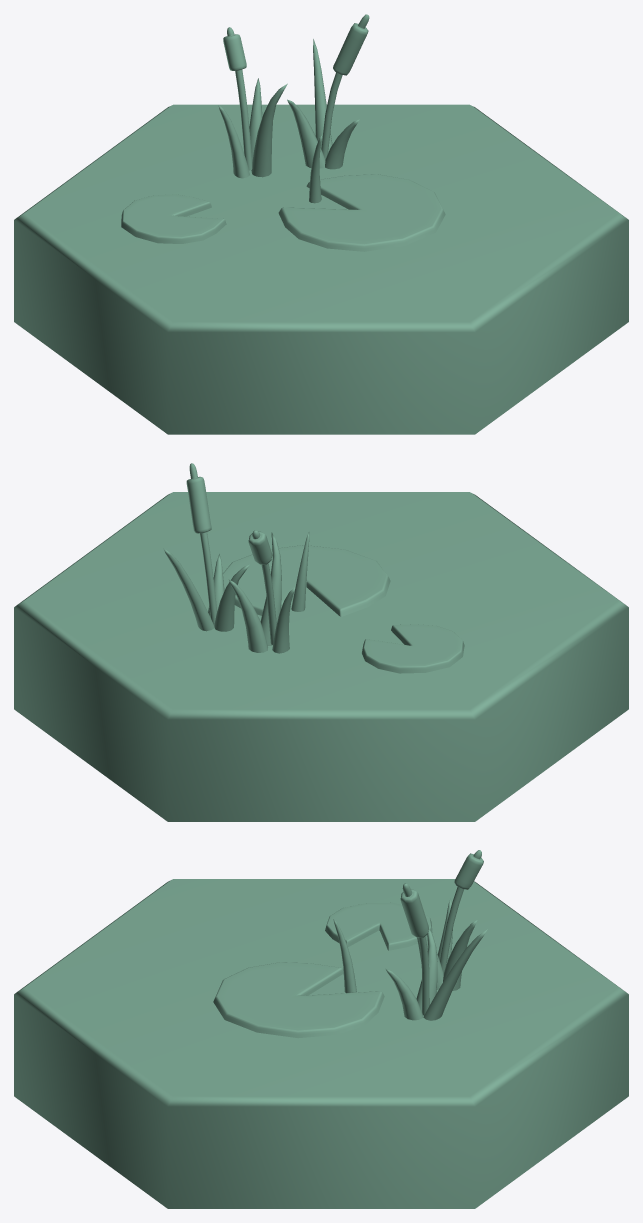
Rendered from 6_water_plants.fbx.
3 renders of one model, top to bottom at view 1: azimuth 30°, elevation 25°; view 2: azimuth 150°, elevation 25°; view 3: azimuth 270°, elevation 25°, orthographic.
Visible parts, largest first — view 1: pCylinder15; view 2: pCylinder15; view 3: pCylinder15.
Boxes of the visible parts, left/top/right/bottom form: pCylinder15: left=14, top=14, right=628, bottom=434; pCylinder15: left=14, top=463, right=628, bottom=821; pCylinder15: left=14, top=850, right=628, bottom=1208.
Bounding box in the file's own units: 4.05 × 2.14 × 4.68.
